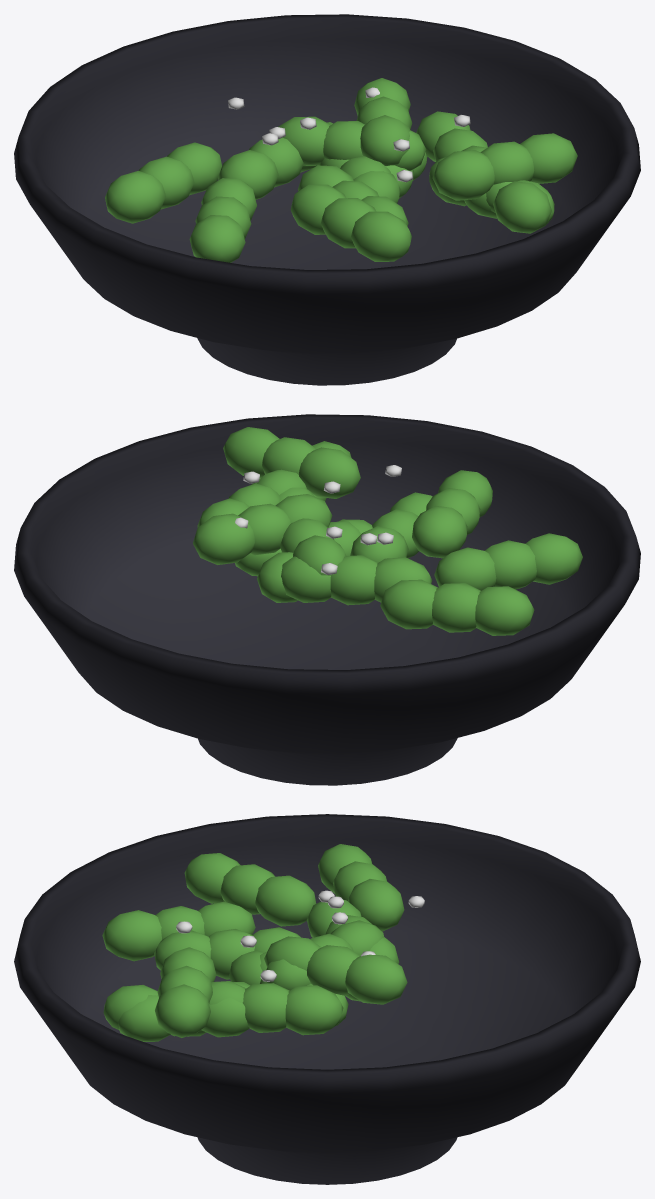
The model's file is item_dish_edamame_bowl.glb.
The picture shows the model from 3 angles, top to bottom: view 1: azimuth 30°, elevation 25°; view 2: azimuth 150°, elevation 25°; view 3: azimuth 270°, elevation 25°; orthographic projection.
Visible parts, largest first — view 1: item_dish_edamame_bowl_main; view 2: item_dish_edamame_bowl_main; view 3: item_dish_edamame_bowl_main.
Boxes of the visible parts, x1=… form: item_dish_edamame_bowl_main: x1=14, y1=14, x2=640, y2=385; item_dish_edamame_bowl_main: x1=14, y1=414, x2=640, y2=785; item_dish_edamame_bowl_main: x1=14, y1=814, x2=640, y2=1184.
Size of the model in its own units: 0.2 by 0.0743 by 0.2.
